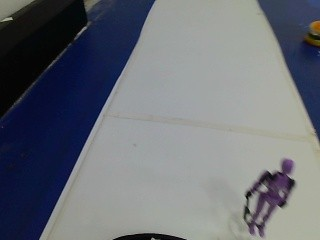pedestrian: (237, 148, 298, 239)
